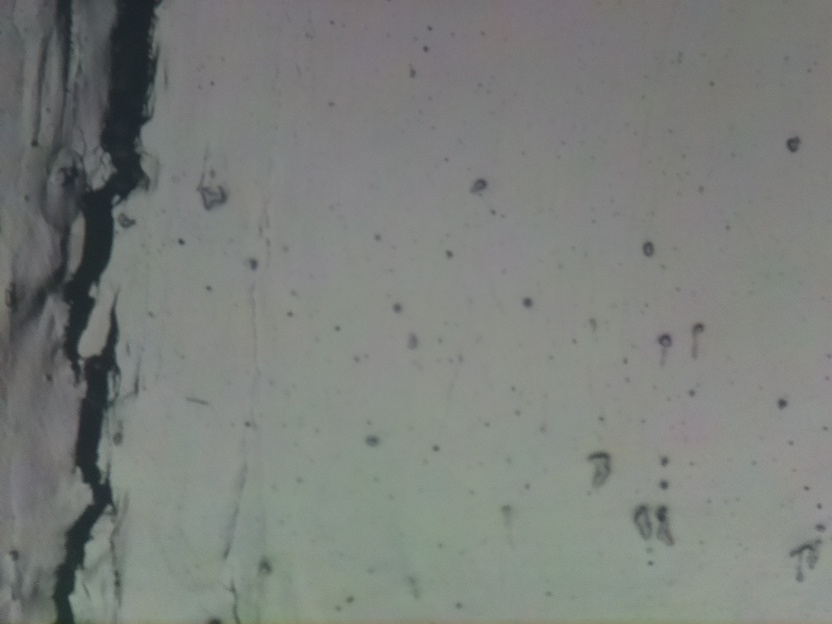crack: (53, 0, 160, 623)
